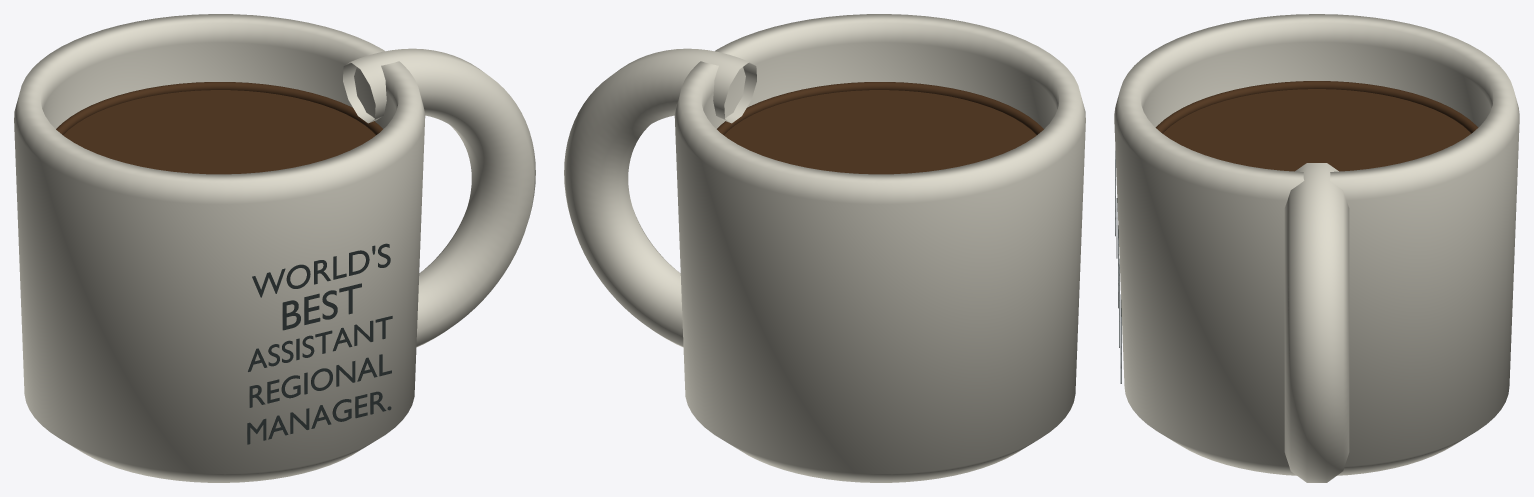
The model's file is mug.glb.
The picture shows the model from 3 angles, left to right: view 1: azimuth 30°, elevation 25°; view 2: azimuth 150°, elevation 25°; view 3: azimuth 270°, elevation 25°; orthographic projection.
Parts seen in each view (by area): view 1: Coffee mug, Mug handle, Coffee surface, Coffee meniscus, MANAGER., REGIONAL, WORLD'S, ASSISTANT, BEST; view 2: Coffee mug, Mug handle, Coffee surface, Coffee meniscus; view 3: Coffee mug, Mug handle, Coffee surface, Coffee meniscus.
Part boxes in pixels (bbox=[...]): Coffee mug: bbox=[14, 14, 425, 482]; Mug handle: bbox=[343, 48, 535, 347]; Coffee surface: bbox=[63, 90, 375, 174]; Coffee meniscus: bbox=[56, 82, 382, 134]; MANAGER.: bbox=[247, 391, 391, 444]; REGIONAL: bbox=[249, 354, 391, 407]; WORLD'S: bbox=[252, 243, 390, 297]; ASSISTANT: bbox=[248, 316, 392, 371]; BEST: bbox=[282, 283, 361, 330]; Coffee mug: bbox=[674, 14, 1085, 482]; Mug handle: bbox=[564, 48, 756, 347]; Coffee surface: bbox=[724, 90, 1036, 174]; Coffee meniscus: bbox=[717, 82, 1043, 134]; Coffee mug: bbox=[1114, 14, 1519, 475]; Mug handle: bbox=[1284, 163, 1349, 482]; Coffee surface: bbox=[1163, 89, 1470, 171]; Coffee meniscus: bbox=[1155, 81, 1478, 133].
Size of the model in its own units: 1.08 by 0.6698 by 0.79.
